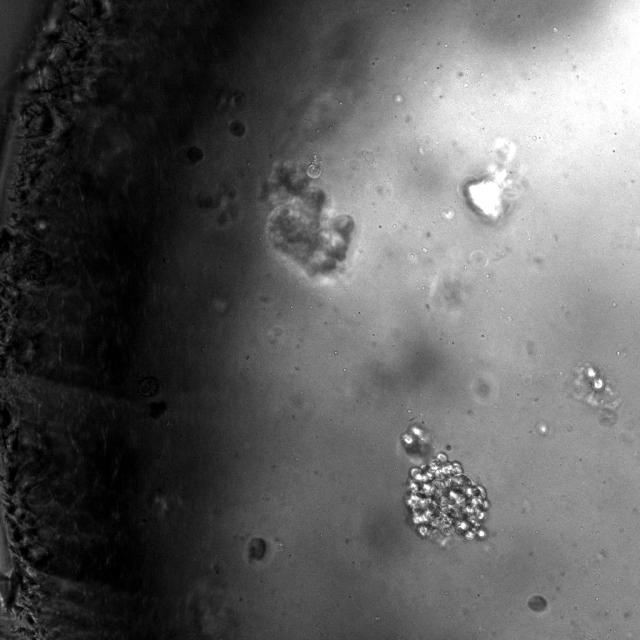organoid: (261, 154, 354, 276), (404, 453, 490, 547), (462, 139, 524, 223), (566, 363, 621, 426), (401, 427, 431, 457), (248, 537, 266, 560), (528, 594, 547, 612), (185, 146, 203, 164), (228, 120, 246, 137), (445, 443, 452, 451)
